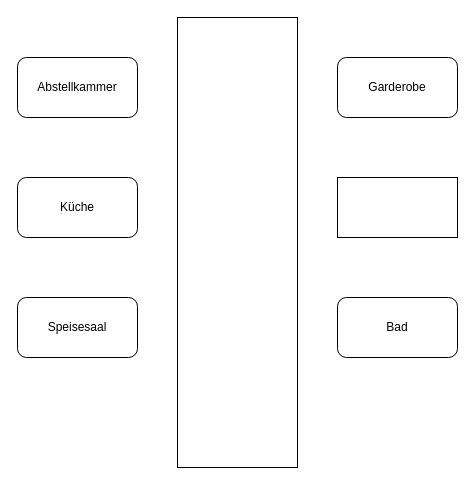
Image size: 475x485. Some labels were removed from this diagram. The shapes that lost their labels are listed below. From the top down, each one's centre as x and y in pixels, then its label:
the point at 397,207: Salon
the point at 237,242: Flur Erdgeschoss
